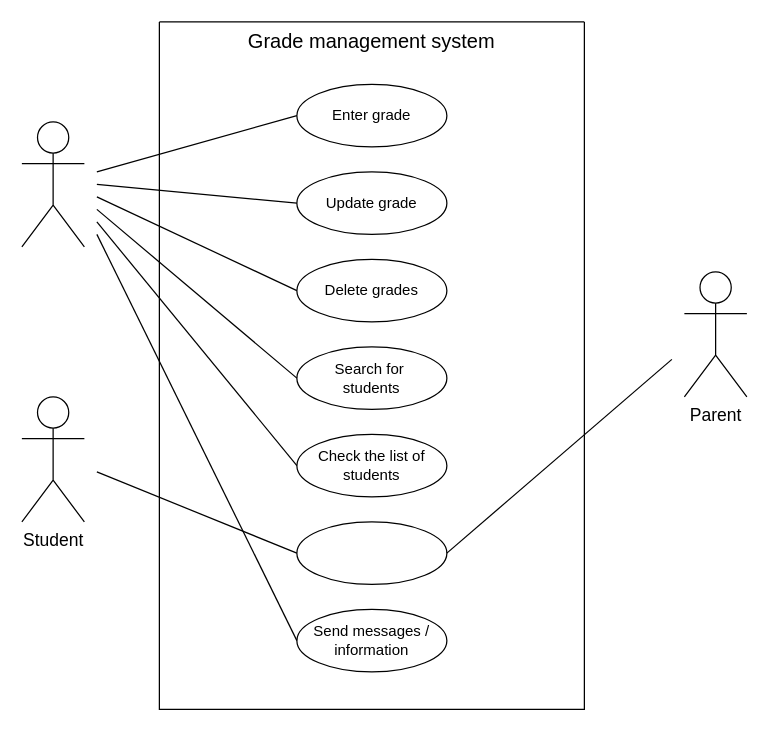
The diagram is 769 pixels wide and 731 high, and some of its shapes have lost their labels. The shapes that lost their labels are listed below. From the top down, each one's box as (x1, y1, x2, y2) in pixels, then its label:
(21, 121, 84, 247): Teacher
(296, 521, 447, 584): Receive automatic information
